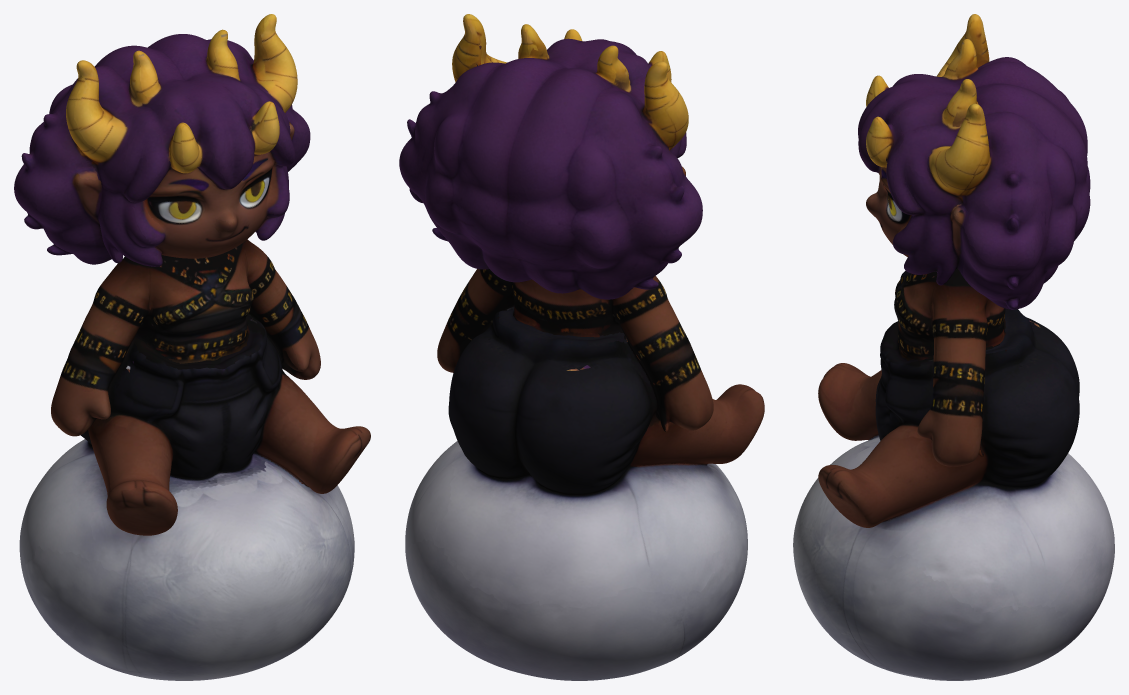
Rendered from The Lunar Sharna.glb.
3 renders of one model, left to right at view 1: azimuth 30°, elevation 25°; view 2: azimuth 150°, elevation 25°; view 3: azimuth 270°, elevation 25°, orthographic. The views are drawn at different scales.
Visible parts, largest first — view 1: temp_mesh.ply; view 2: temp_mesh.ply; view 3: temp_mesh.ply.
Part boxes in pixels (x1,y1,x2,y2): temp_mesh.ply: (14, 14, 370, 680); temp_mesh.ply: (399, 14, 764, 680); temp_mesh.ply: (793, 14, 1114, 680).
Size of the model in its own units: 0.9921 by 1.97 by 0.9691.
1 material, 1 textured.
